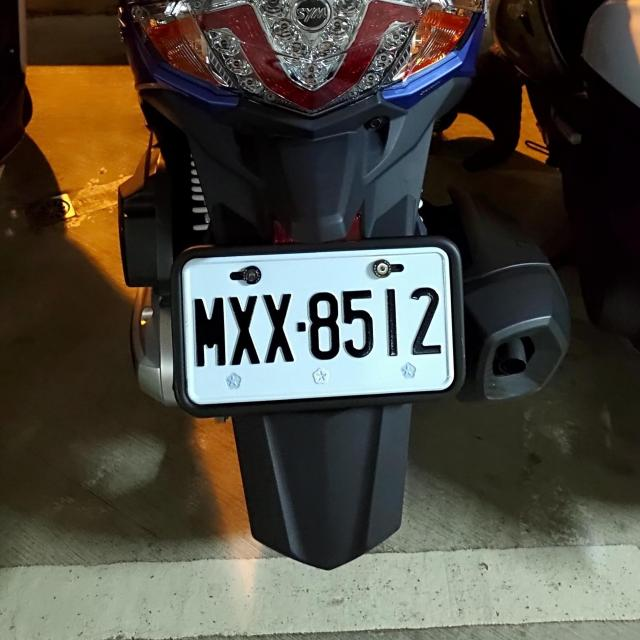W: (175, 244, 463, 404)
